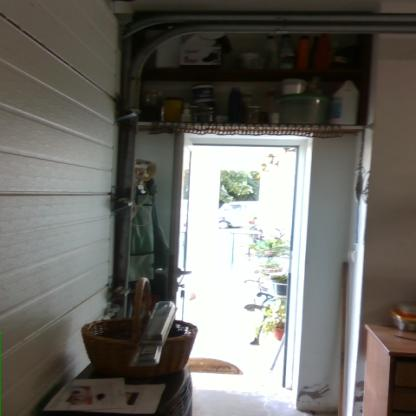open: (160, 116, 334, 402)
